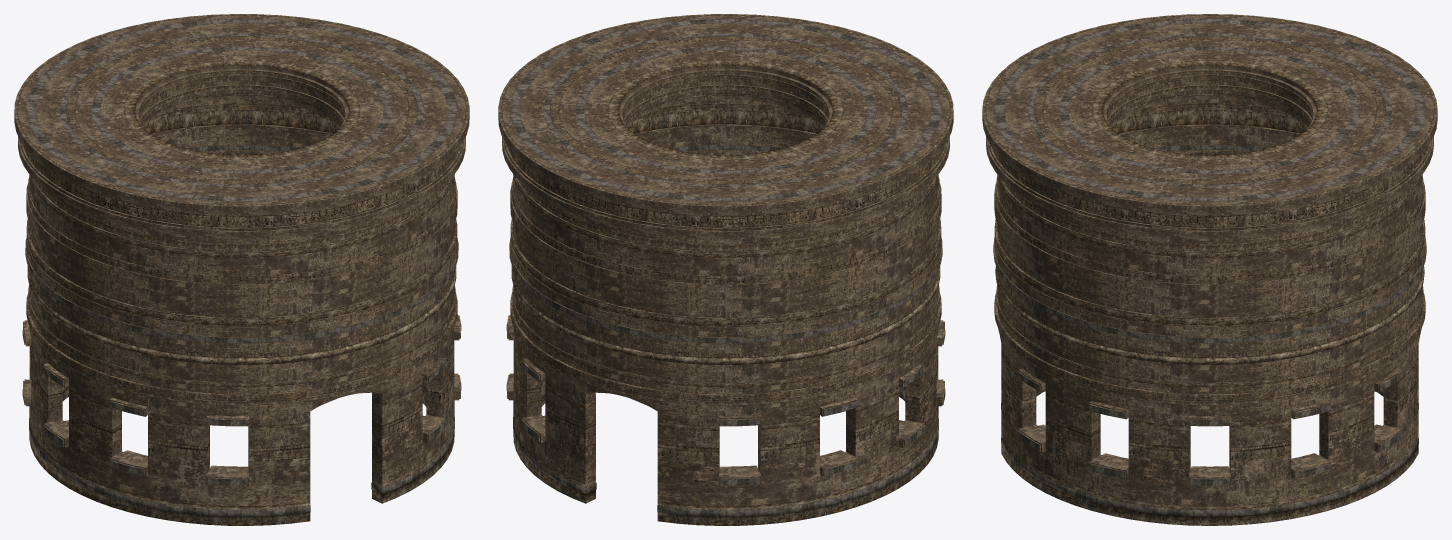
The model's file is materials_5_building_16.fbx.
The picture shows the model from 3 angles, left to right: view 1: azimuth 30°, elevation 25°; view 2: azimuth 150°, elevation 25°; view 3: azimuth 270°, elevation 25°; orthographic projection.
Visible parts, largest first — view 1: materials_5_building_16; view 2: materials_5_building_16; view 3: materials_5_building_16.
Part boxes in pixels (x1,y1,x2,y2): materials_5_building_16: (14,14,469,525); materials_5_building_16: (498,14,953,525); materials_5_building_16: (982,14,1437,525).
Bounding box in the file's own units: 723 × 571 × 723.
